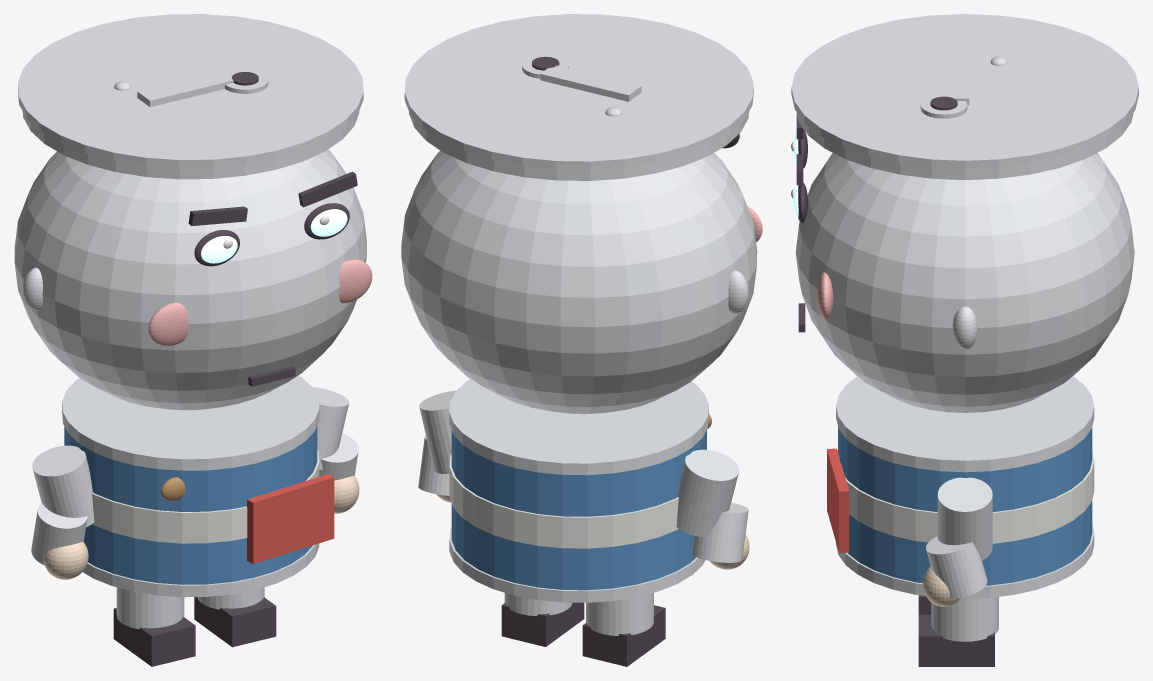
Rendered from tin.glb.
3 renders of one model, left to right at view 1: azimuth 30°, elevation 25°; view 2: azimuth 150°, elevation 25°; view 3: azimuth 270°, elevation 25°, orthographic.
Parts seen in each view (by area): view 1: Head, LidRim, CanBody, CanRimTop, Stamp, CanBand, Lid, UpperArm_L, CanRimBot, Shoe_L, Shoe_R, Leg_L (+18 smaller); view 2: Head, LidRim, CanBody, CanRimTop, CanBand, UpperArm_L, Lid, CanRimBot, Shoe_L, Shoe_R, Leg_L, Forearm_L (+5 smaller); view 3: Head, LidRim, CanBody, CanRimTop, CanBand, Lid, UpperArm_R, CanRimBot, Leg_R, Shoe_R, Forearm_R, Stamp (+5 smaller).
Part boxes in pixels (x1=…): Head: x1=14, y1=149, x2=366, y2=410; LidRim: x1=18, y1=14, x2=363, y2=167; CanBody: x1=64, y1=426, x2=317, y2=584; CanRimTop: x1=62, y1=375, x2=319, y2=470; Stamp: x1=247, y1=474, x2=334, y2=564; CanBand: x1=92, y1=450, x2=319, y2=543; Lid: x1=22, y1=111, x2=359, y2=179; UpperArm_L: x1=32, y1=445, x2=94, y2=527; CanRimBot: x1=82, y1=543, x2=319, y2=597; Shoe_L: x1=113, y1=608, x2=195, y2=666; Shoe_R: x1=194, y1=597, x2=276, y2=647; Leg_L: x1=116, y1=587, x2=184, y2=629; Head: x1=401, y1=150, x2=757, y2=414; LidRim: x1=404, y1=14, x2=753, y2=169; CanBody: x1=451, y1=430, x2=706, y2=590; CanRimTop: x1=449, y1=379, x2=708, y2=475; CanBand: x1=449, y1=453, x2=678, y2=548; UpperArm_L: x1=676, y1=449, x2=739, y2=537; Lid: x1=409, y1=112, x2=748, y2=180; CanRimBot: x1=449, y1=527, x2=705, y2=602; Shoe_L: x1=582, y1=605, x2=665, y2=666; Shoe_R: x1=501, y1=602, x2=584, y2=646; Leg_L: x1=586, y1=593, x2=653, y2=635; Forearm_L: x1=691, y1=502, x2=748, y2=562; Head: x1=795, y1=153, x2=1134, y2=412; LidRim: x1=791, y1=14, x2=1138, y2=168; CanBody: x1=838, y1=427, x2=1092, y2=585; CanRimTop: x1=836, y1=376, x2=1094, y2=472; CanBand: x1=845, y1=452, x2=1094, y2=543; Lid: x1=796, y1=112, x2=1133, y2=179; UpperArm_R: x1=937, y1=477, x2=992, y2=560; CanRimBot: x1=836, y1=525, x2=1094, y2=598; Leg_R: x1=931, y1=597, x2=998, y2=641; Shoe_R: x1=918, y1=614, x2=994, y2=666; Forearm_R: x1=926, y1=536, x2=987, y2=598; Stamp: x1=827, y1=448, x2=849, y2=552.
Size of the model in its own units: 1.26 by 2 by 1.13.
